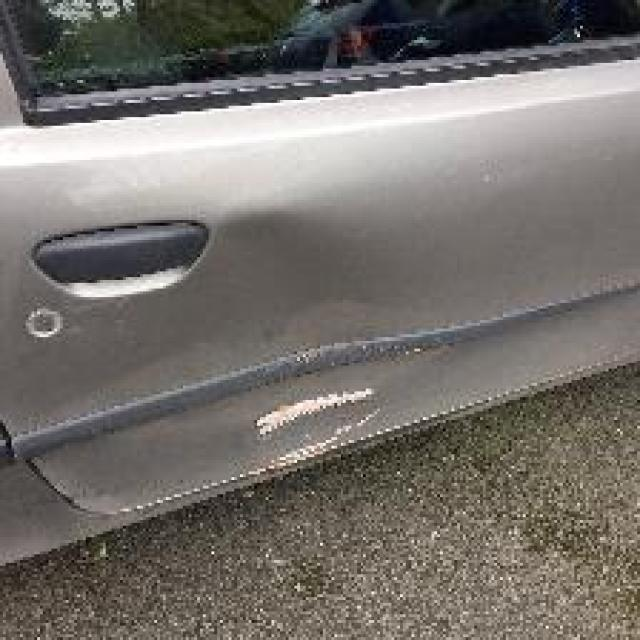damaged: (255, 306, 394, 474)
